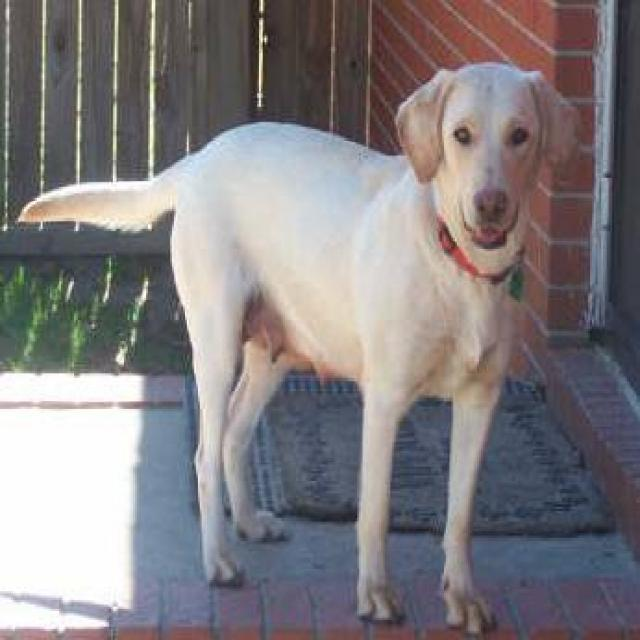dog: (20, 43, 578, 640)
